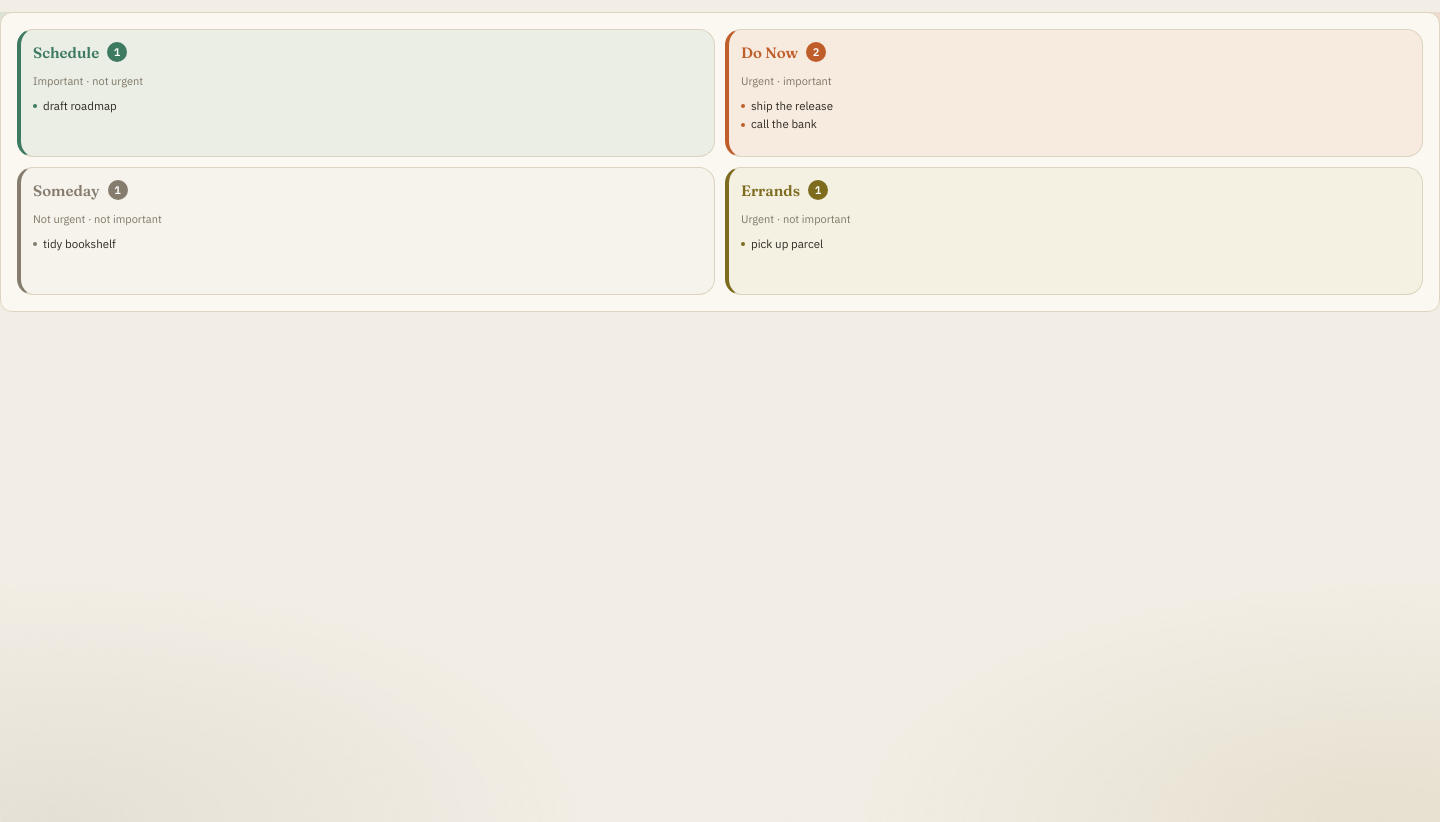
MobileMatrix › drills into a quadrant focus list on tap, showing only that quadrant
The image size is (1440, 822).
Click the button with aria-label "Schedule, 1 task" at (66, 52), box [17, 29, 715, 157]
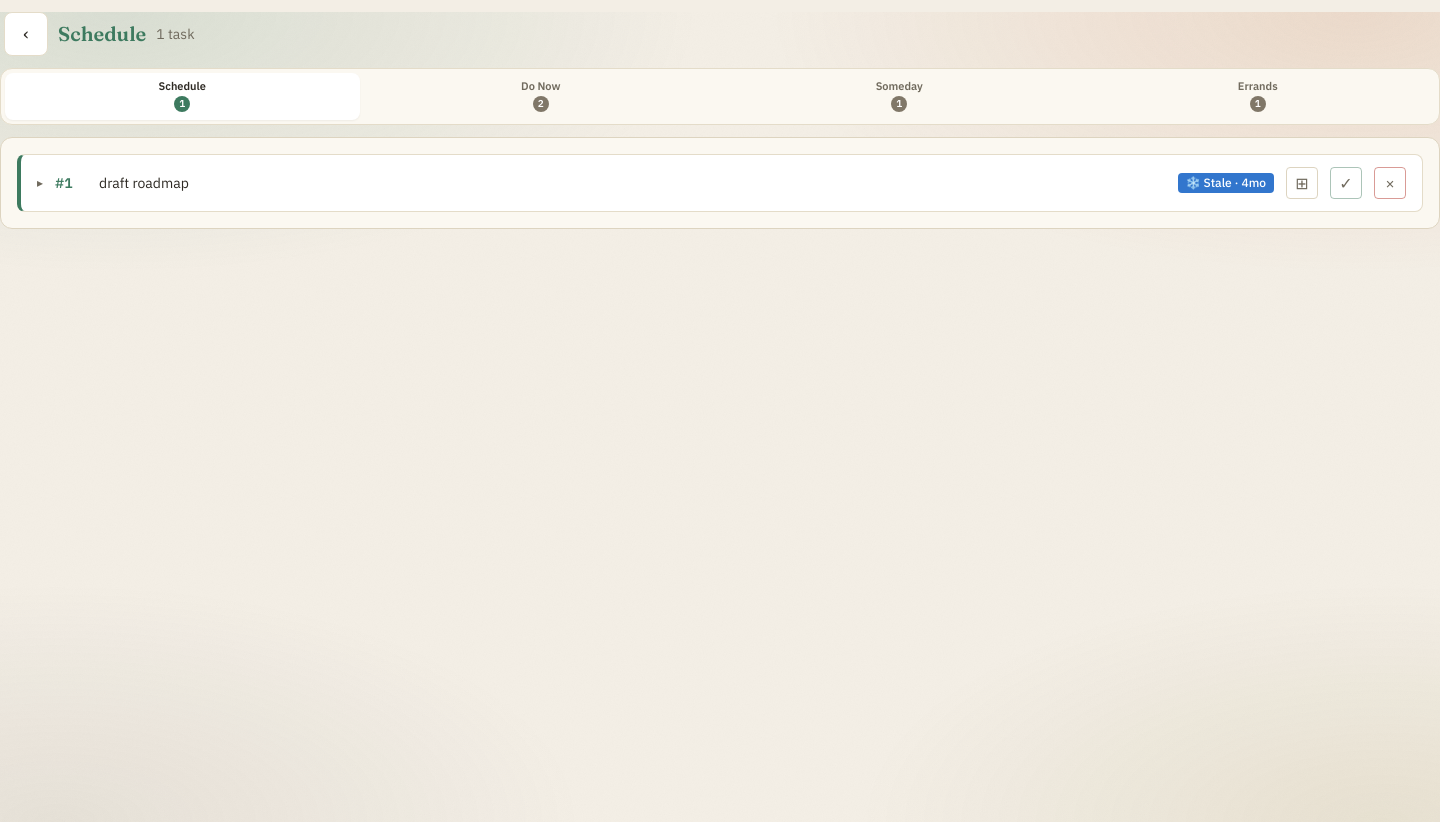
Now the button "▸ #1 draft roadmap ❄️ Stale · 4mo" is shown, box [37, 173, 1274, 193]
Now the button "pick up parcel" is gone
Now the button "tidy bookshelf" is gone
